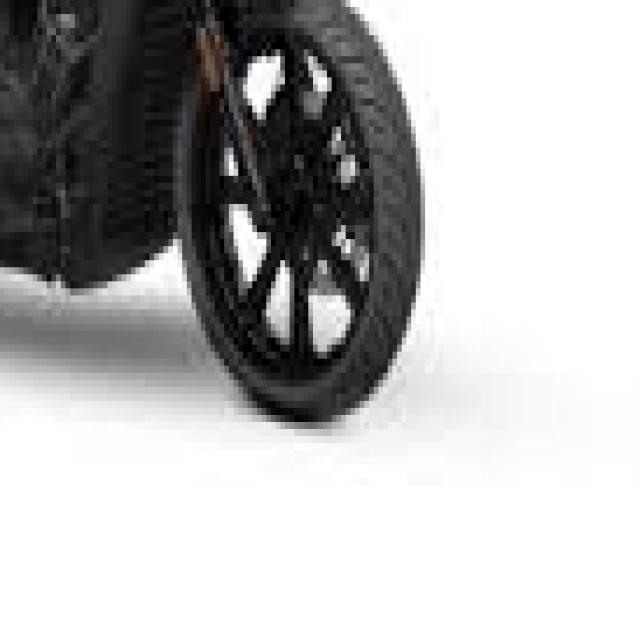bike: (0, 0, 430, 436)
